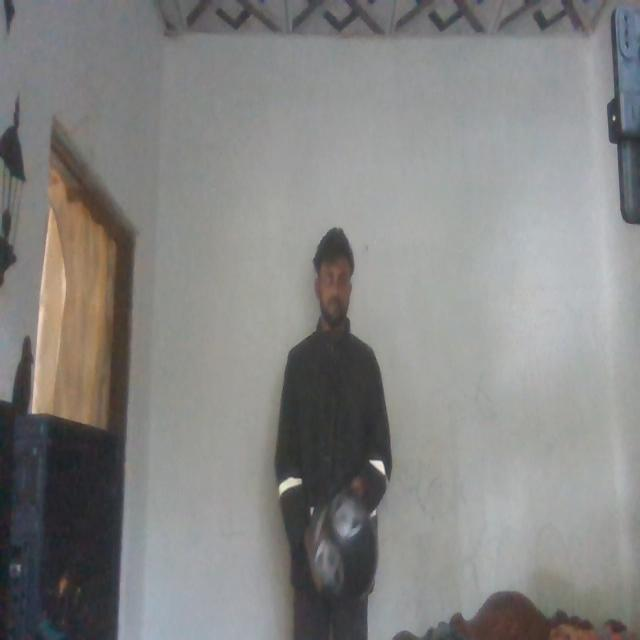Jacket_Wearer: (276, 322, 398, 588)
Person: (273, 219, 386, 640)
